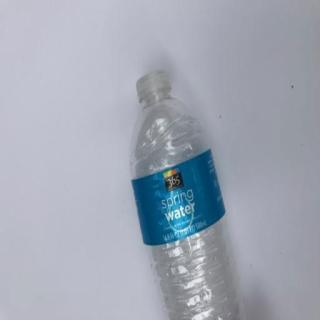Plastic-bottle: (127, 67, 251, 320)
